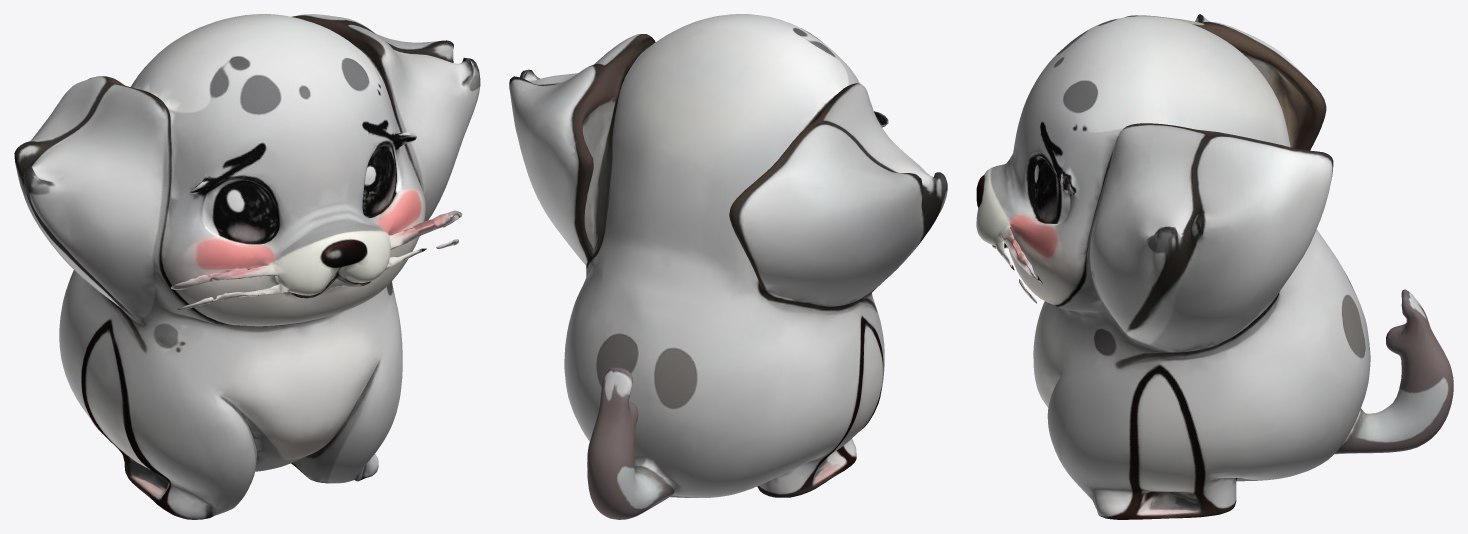
File: tombik.glb
3 renders of one model, left to right at view 1: azimuth 30°, elevation 25°; view 2: azimuth 150°, elevation 25°; view 3: azimuth 270°, elevation 25°, orthographic. The views are drawn at different scales.
Visible parts, largest first — view 1: world_1; view 2: world_1; view 3: world_1.
Boxes of the visible parts, left/top/right/bottom form: world_1: left=14, top=14, right=480, bottom=519; world_1: left=509, top=14, right=947, bottom=519; world_1: left=976, top=14, right=1453, bottom=519.
Bounding box in the file's own units: 0.9994 × 0.9606 × 0.937.
Materials: 1 (1 with a texture image).
